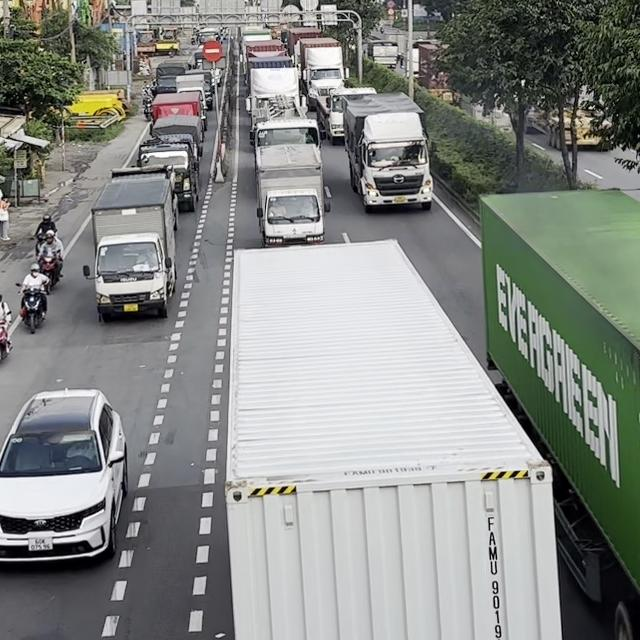car: (0, 386, 128, 566)
motorcycle: (15, 280, 49, 333), (36, 249, 62, 290), (0, 312, 12, 363)
truck: (223, 233, 563, 639), (477, 186, 639, 639), (82, 170, 179, 323), (342, 91, 434, 212), (254, 143, 332, 247), (245, 62, 307, 144), (136, 134, 200, 211), (296, 36, 347, 111), (318, 84, 376, 144), (155, 61, 190, 94), (177, 75, 208, 109)
